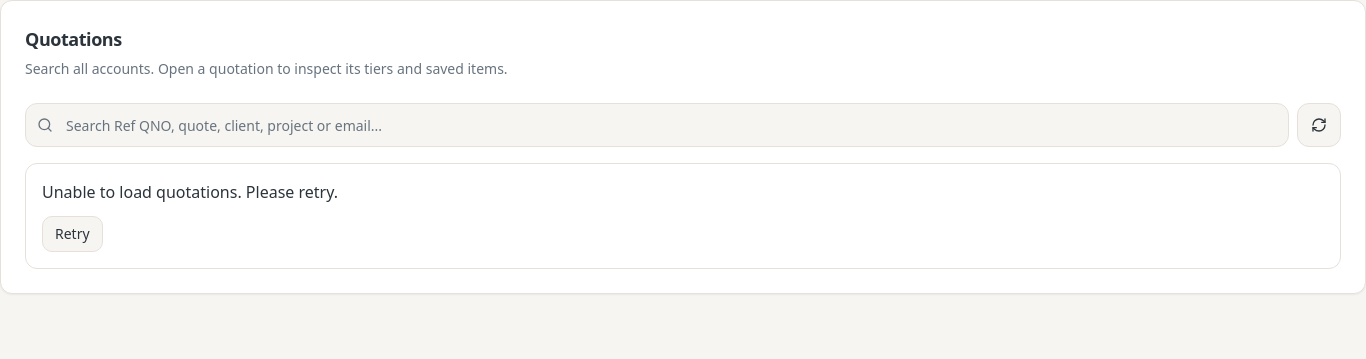
recovers from a failed request and supports empty searches
Expected: the message shows "Unable to load quotations", [42, 181, 338, 203]
Click the button "Retry" at (72, 234), box [42, 216, 103, 252]
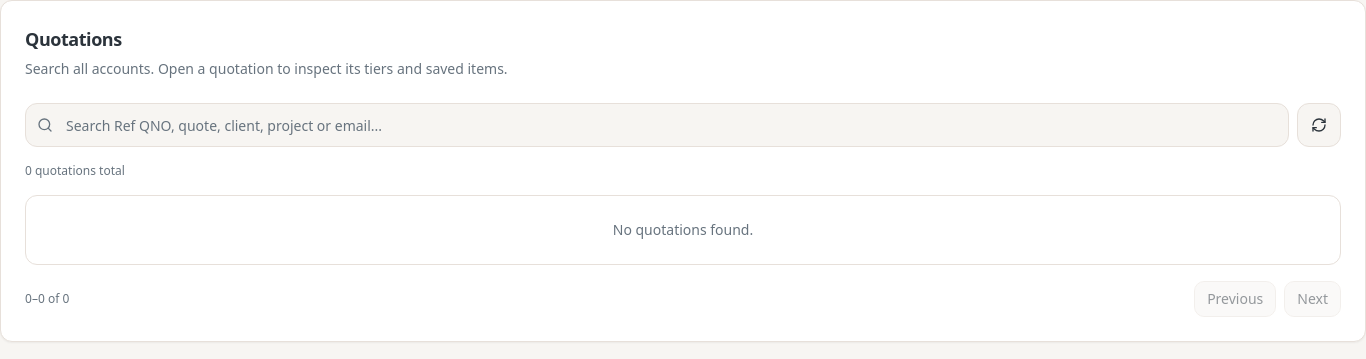
Expected: the text "No quotations found." is shown, [25, 195, 1341, 265]
Type "missing" into the search field at (657, 125), box [25, 103, 1289, 147]
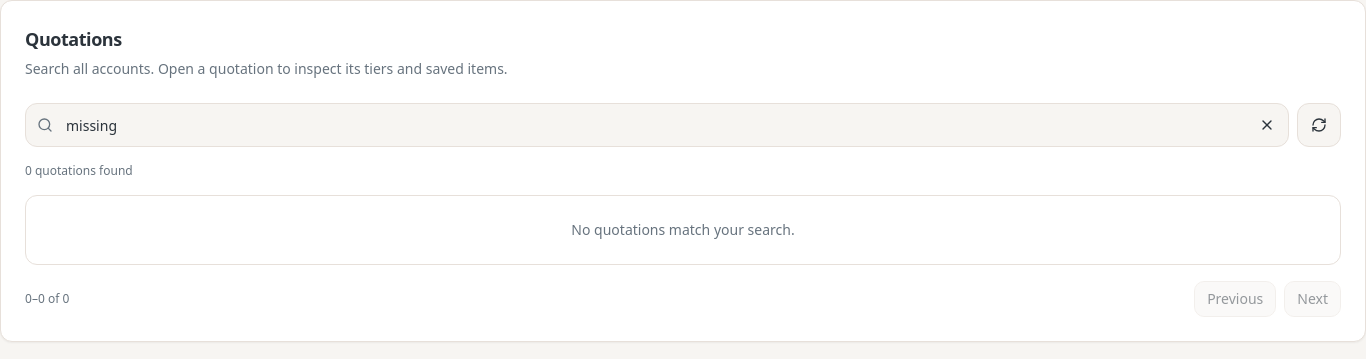
Expected: the text "No quotations match your search." is shown, [25, 195, 1341, 265]
Click the button named "Clear quotation search" at (1267, 125), box [1249, 107, 1285, 143]
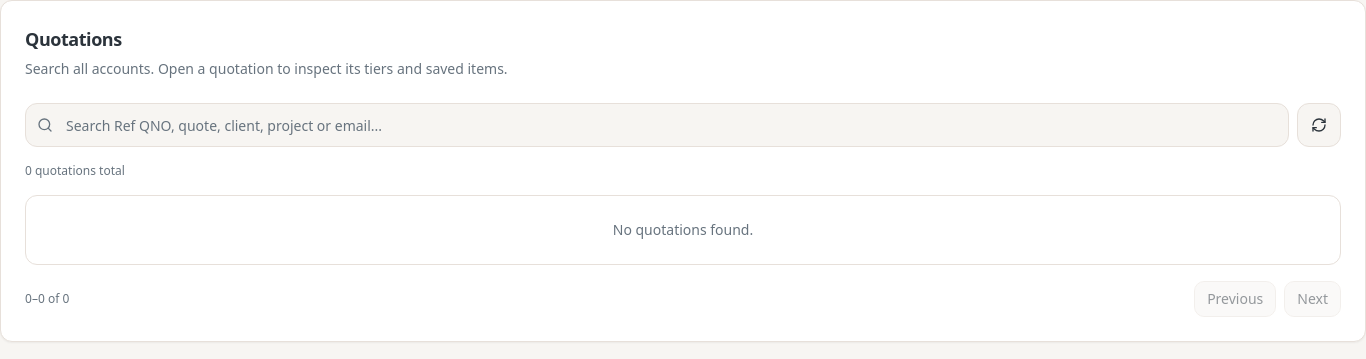
Expected: the search field is empty, [25, 103, 1289, 147]
